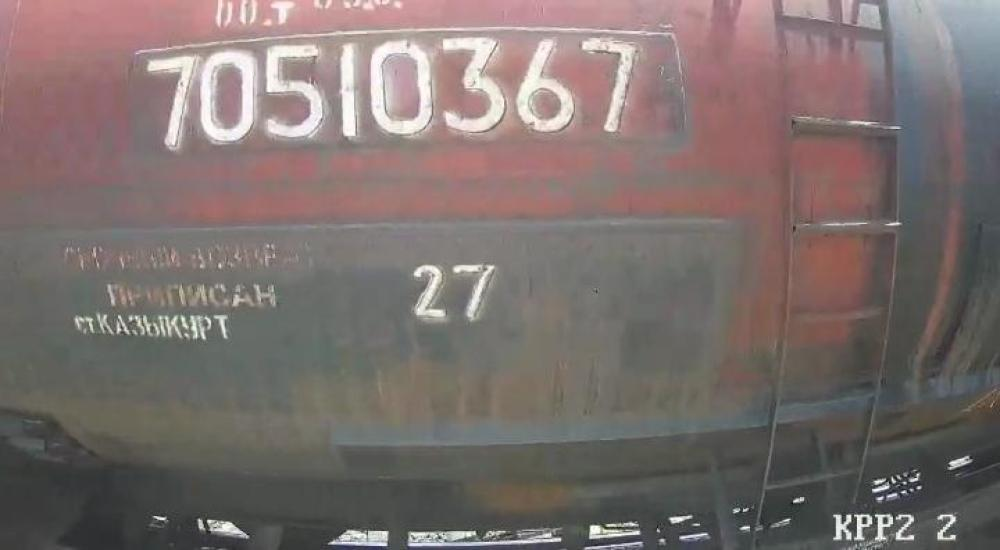Wagon-number: (143, 35, 646, 152)
